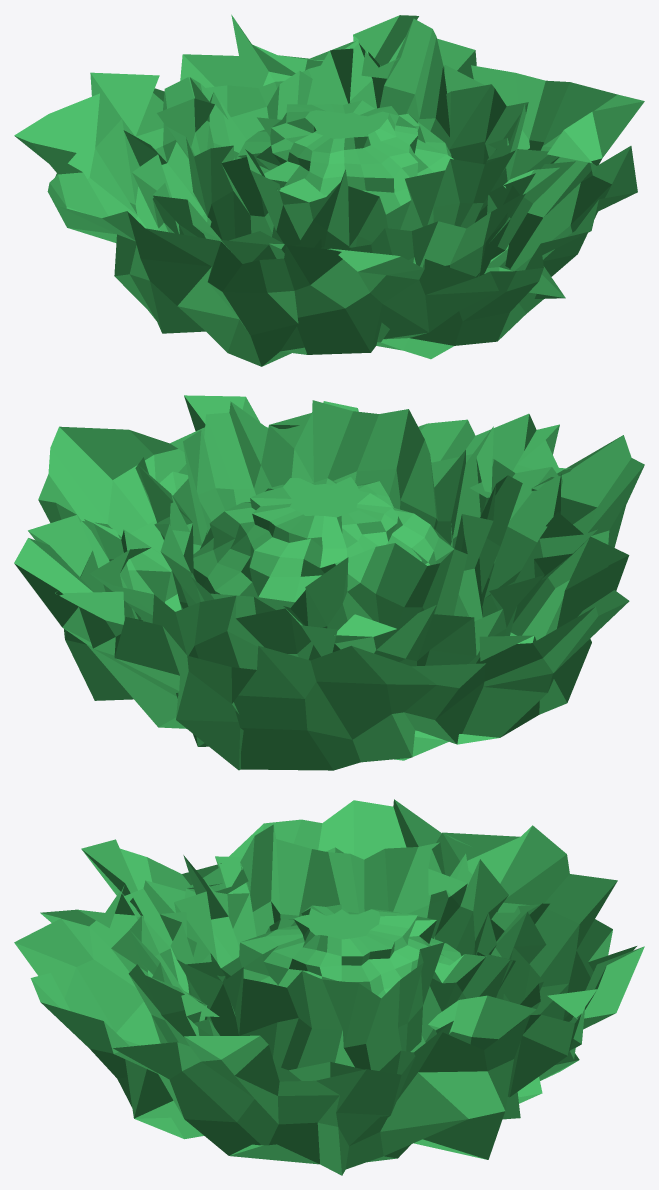
The model's file is salade.fbx.
The picture shows the model from 3 angles, top to bottom: view 1: azimuth 30°, elevation 25°; view 2: azimuth 150°, elevation 25°; view 3: azimuth 270°, elevation 25°; orthographic projection. The views are drawn at different scales.
Visible parts, largest first — view 1: Plane.002, Plane, Plane.001, Cylinder; view 2: Plane.002, Plane, Plane.001, Cylinder; view 3: Plane.002, Plane, Plane.001, Cylinder.
Part boxes in pixels (x1,y1,x2,y2): Plane.002: (14, 14, 644, 366); Plane: (157, 18, 528, 247); Plane.001: (123, 51, 575, 342); Cylinder: (236, 100, 453, 214); Plane.002: (14, 395, 644, 770); Plane: (135, 400, 522, 630); Plane.001: (84, 401, 597, 698); Cylinder: (193, 477, 453, 609); Plane.002: (14, 799, 644, 1175); Plane: (159, 824, 515, 1070); Plane.001: (124, 847, 549, 1081); Cylinder: (221, 904, 461, 1052).
Size of the model in its own units: 497 by 199 by 476.
